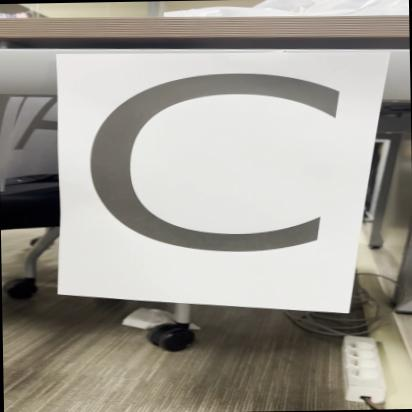seat: (58, 44, 384, 318)
